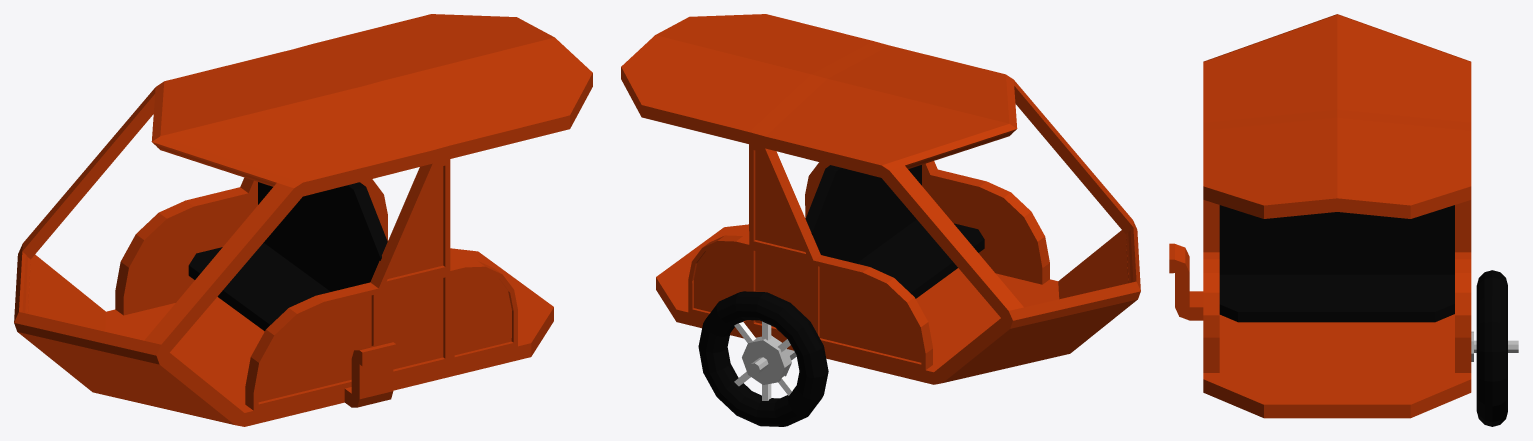
The model's file is Sidecar_3.fbx.
3 views of the same model, side by side, from view 1: azimuth 30°, elevation 25°; view 2: azimuth 150°, elevation 25°; view 3: azimuth 270°, elevation 25° (orthographic). The views are drawn at different scales.
Visible parts, largest first — view 1: Cube.007; view 2: Cube.007; view 3: Cube.007.
Boxes of the visible parts, x1,y1,x2,y2 form: Cube.007: (14,14,592,426); Cube.007: (621,14,1140,426); Cube.007: (1169,14,1518,426).
Bounding box in the file's own units: 269 × 155 × 156.
